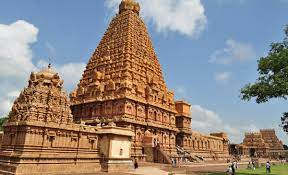Temple: (77, 2, 189, 144), (9, 60, 80, 156)
